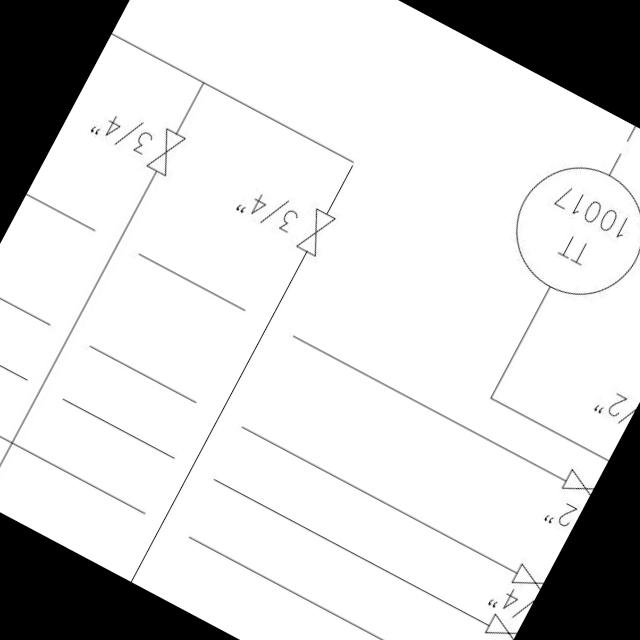GV: (288, 202, 342, 262), (139, 120, 190, 180)
